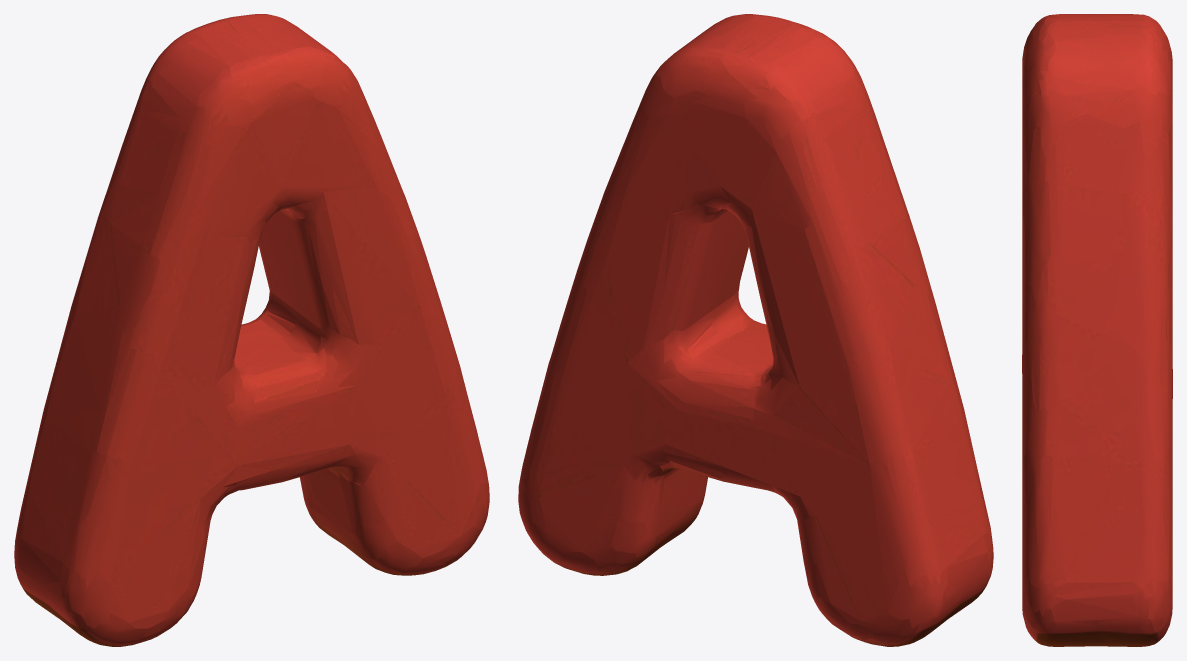
Rendered from letterA.7c4e68e2.glb.
3 views of the same model, side by side, from view 1: azimuth 30°, elevation 25°; view 2: azimuth 150°, elevation 25°; view 3: azimuth 270°, elevation 25° (orthographic). The views are drawn at different scales.
Parts seen in each view (by area): view 1: output_unwrapped; view 2: output_unwrapped; view 3: output_unwrapped.
Boxes of the visible parts, x1,y1,x2,y2 form: output_unwrapped: (14, 14, 489, 646); output_unwrapped: (518, 14, 993, 646); output_unwrapped: (1022, 14, 1172, 646).
Bounding box in the file's own units: 1.52 × 1.9 × 0.4807.
Materials: 1 (1 with a texture image).
